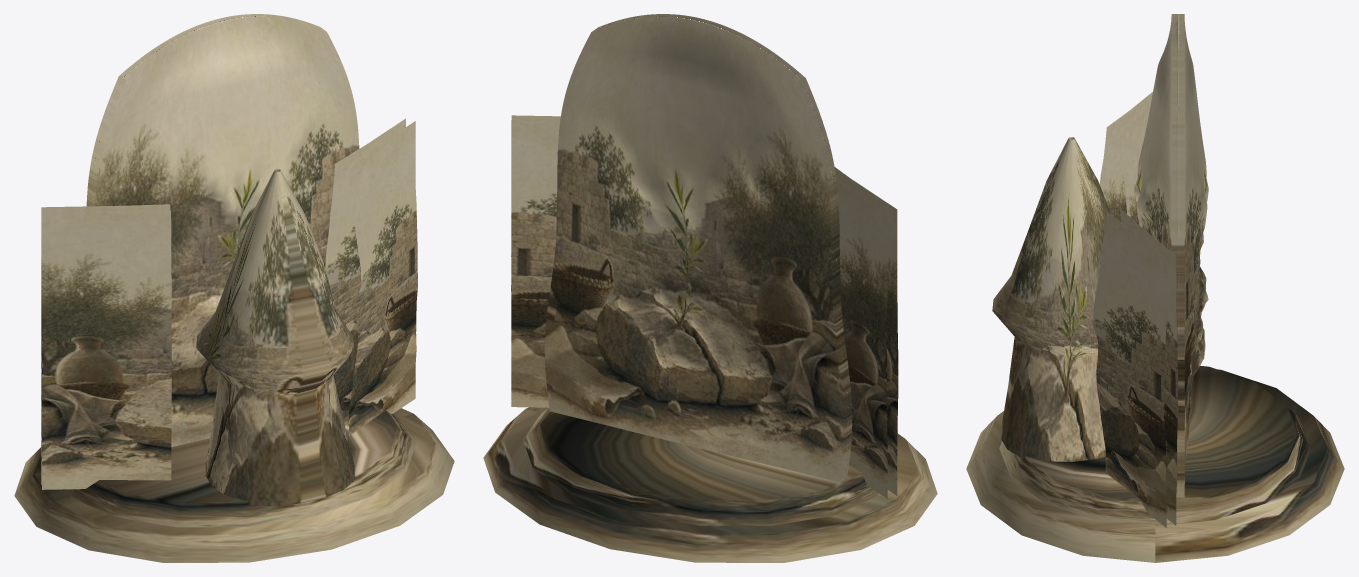
File: new-every-morning-30.glb
The picture shows the model from 3 angles, left to right: view 1: azimuth 30°, elevation 25°; view 2: azimuth 150°, elevation 25°; view 3: azimuth 270°, elevation 25°; orthographic projection. The views are drawn at different scales.
Visible parts, largest first — view 1: PaintingSculptureMonument; view 2: PaintingSculptureMonument; view 3: PaintingSculptureMonument.
Boxes of the visible parts, <box> form: PaintingSculptureMonument: <box>14,14,454,562</box>; PaintingSculptureMonument: <box>483,14,937,562</box>; PaintingSculptureMonument: <box>966,14,1344,562</box>.
Bounding box in the file's own units: 2.76 × 2.99 × 2.35.
Materials: 1 (1 with a texture image).
